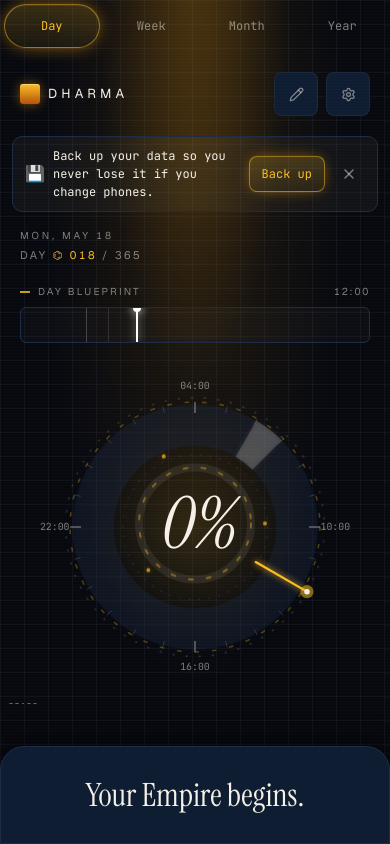
Test: C-m9d-011: AppShell — selecting Week renders the Castle week view › clicking Week segment renders the week list (role='list' aria-label='Week days')
(page scrolled)
Click the tab "Week".
click(151, 26)  # box 104,0 -> 199,52
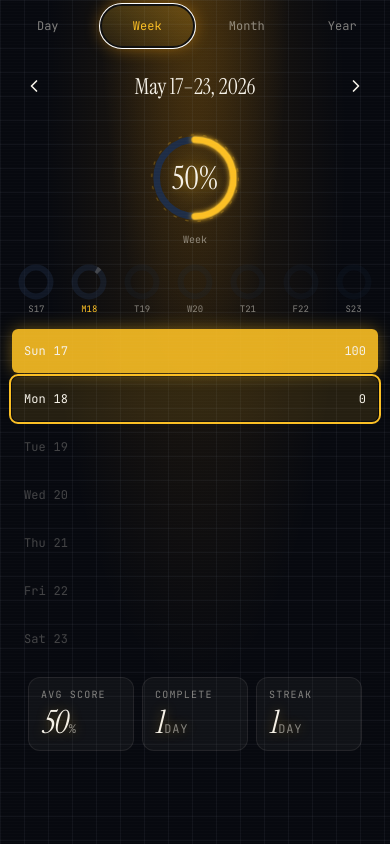
Expected: the list named "Week days" is shown, 12,328 -> 378,660
